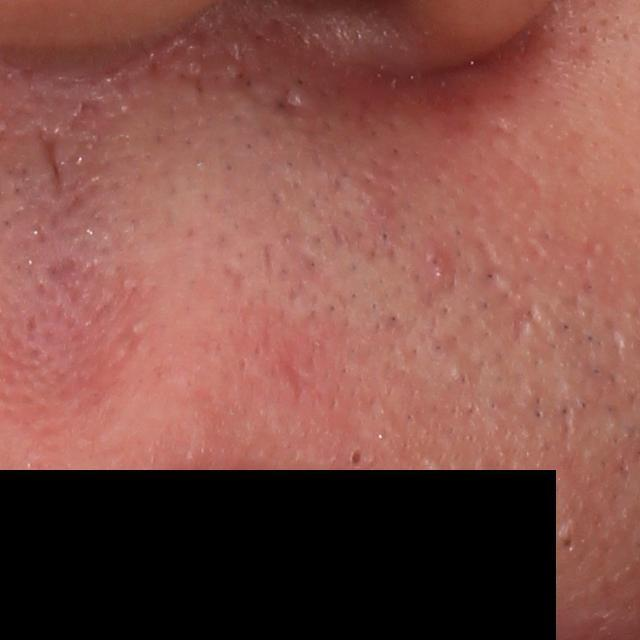atrophic_scar: (277, 348, 315, 403), (32, 126, 62, 190), (506, 297, 540, 342), (269, 85, 301, 120)
comedo: (342, 441, 371, 473), (558, 528, 583, 556)
papule: (425, 244, 451, 283)
